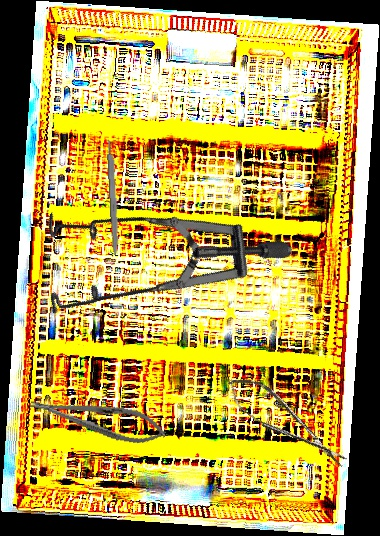Micro Scissor: (220, 366, 353, 480)
Needle Holder: (26, 385, 170, 452)
Scalpel Handle: (106, 139, 121, 257)
Speculum: (9, 136, 296, 401)
